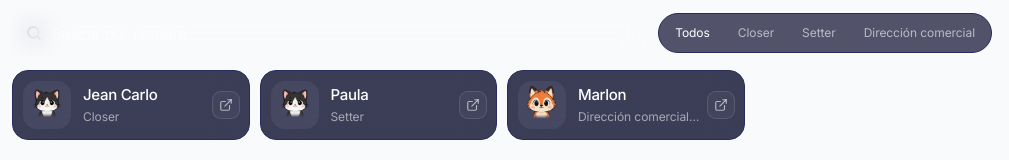
Simular a alguien, en el Portal › tocar a alguien lo simula en esta pestaña; con un solo rol, directo
Click the button with aria-label "Simular a Jean Carlo".
click(131, 105)  # box [12, 70, 250, 140]
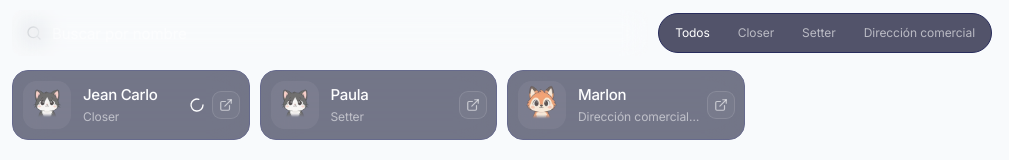
Check: the button with aria-label "Simular a Paula" is disabled, box [260, 70, 497, 140]
